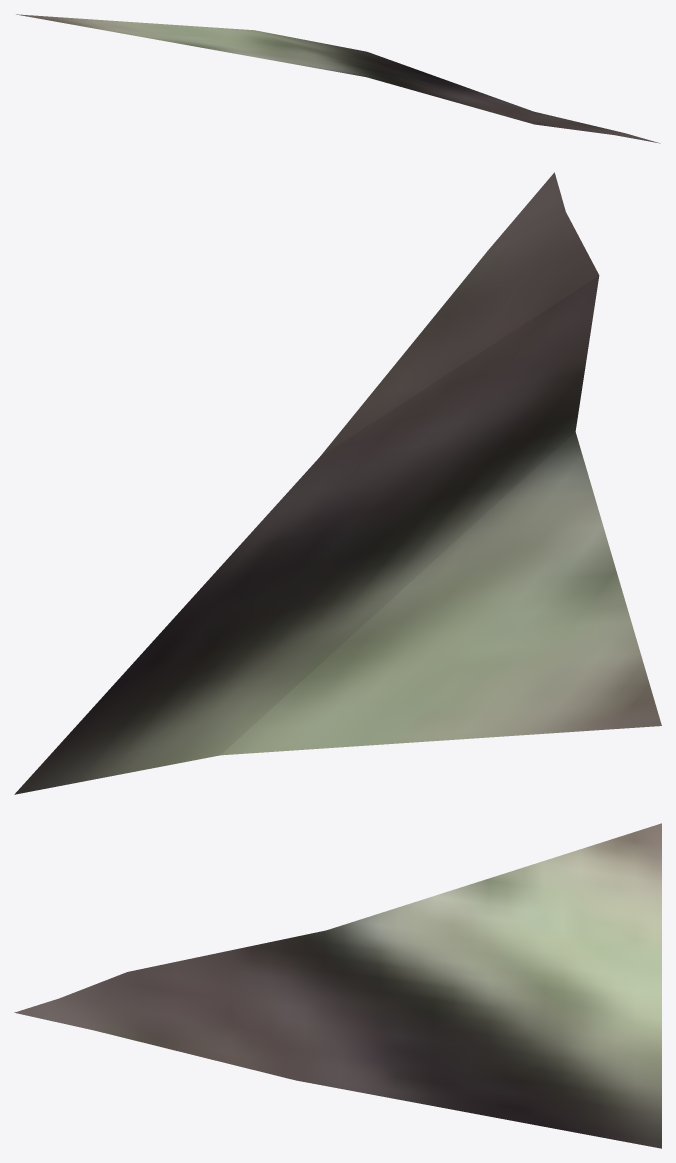
3 views of the same model, one above another, from view 1: azimuth 30°, elevation 25°; view 2: azimuth 150°, elevation 25°; view 3: azimuth 270°, elevation 25° (orthographic). The views are drawn at different scales.
Bounding box in the file's own units: 0.1536 × 0.0514 × 0.222.
1 material, 1 textured.
